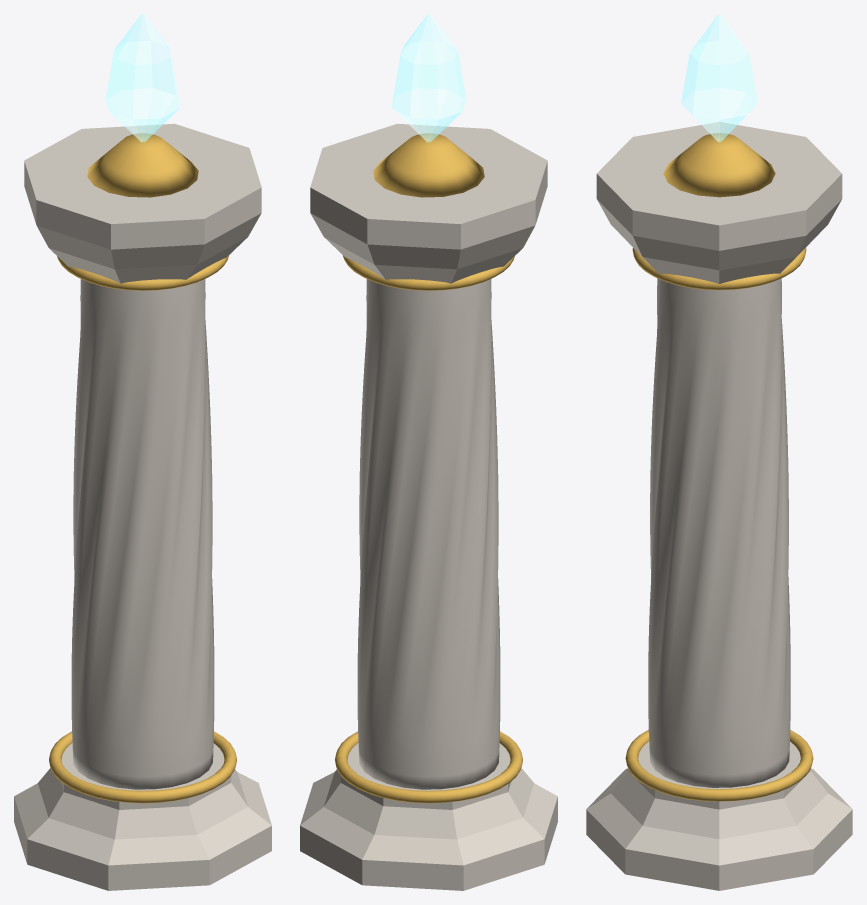
File: webtoon-twisted-marble-salon-spire-column-v17.glb
3 views of the same model, side by side, from view 1: azimuth 30°, elevation 25°; view 2: azimuth 150°, elevation 25°; view 3: azimuth 270°, elevation 25° (orthographic).
Visible parts, largest first — view 1: TwistedSalonFlutedShaft, SalonColumnPlinthAndCapital, SalonColumnGildedCollars, SalonSpirePrismFinial; view 2: TwistedSalonFlutedShaft, SalonColumnPlinthAndCapital, SalonColumnGildedCollars, SalonSpirePrismFinial; view 3: TwistedSalonFlutedShaft, SalonColumnPlinthAndCapital, SalonColumnGildedCollars, SalonSpirePrismFinial.
Part boxes in pixels (box(x1,y1,x2,y2)): TwistedSalonFlutedShaft: box(71, 279, 214, 789); SalonColumnPlinthAndCapital: box(14, 123, 271, 890); SalonColumnGildedCollars: box(49, 133, 236, 803); SalonSpirePrismFinial: box(105, 14, 180, 142); TwistedSalonFlutedShaft: box(357, 279, 500, 789); SalonColumnPlinthAndCapital: box(300, 123, 557, 890); SalonColumnGildedCollars: box(335, 133, 522, 803); SalonSpirePrismFinial: box(391, 14, 466, 142); TwistedSalonFlutedShaft: box(648, 278, 790, 787); SalonColumnPlinthAndCapital: box(586, 122, 852, 890); SalonColumnGildedCollars: box(625, 133, 813, 801); SalonSpirePrismFinial: box(681, 14, 757, 142).
Bounding box in the file's own units: 0.76 × 2.58 × 0.76.
